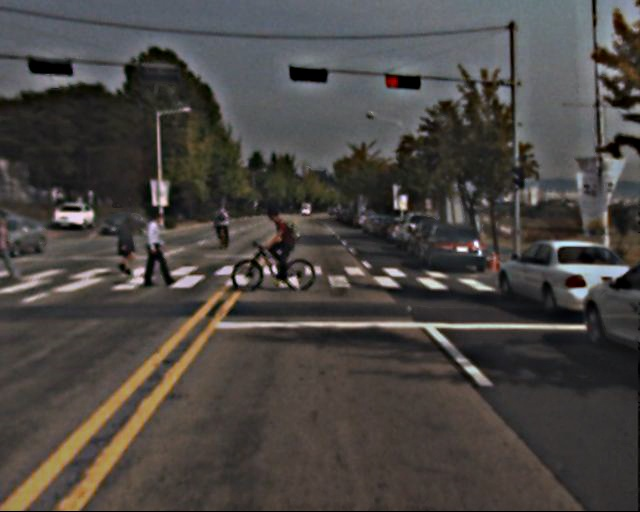person: (269, 207, 308, 283), (144, 206, 176, 286), (115, 211, 146, 277), (214, 204, 237, 249)
